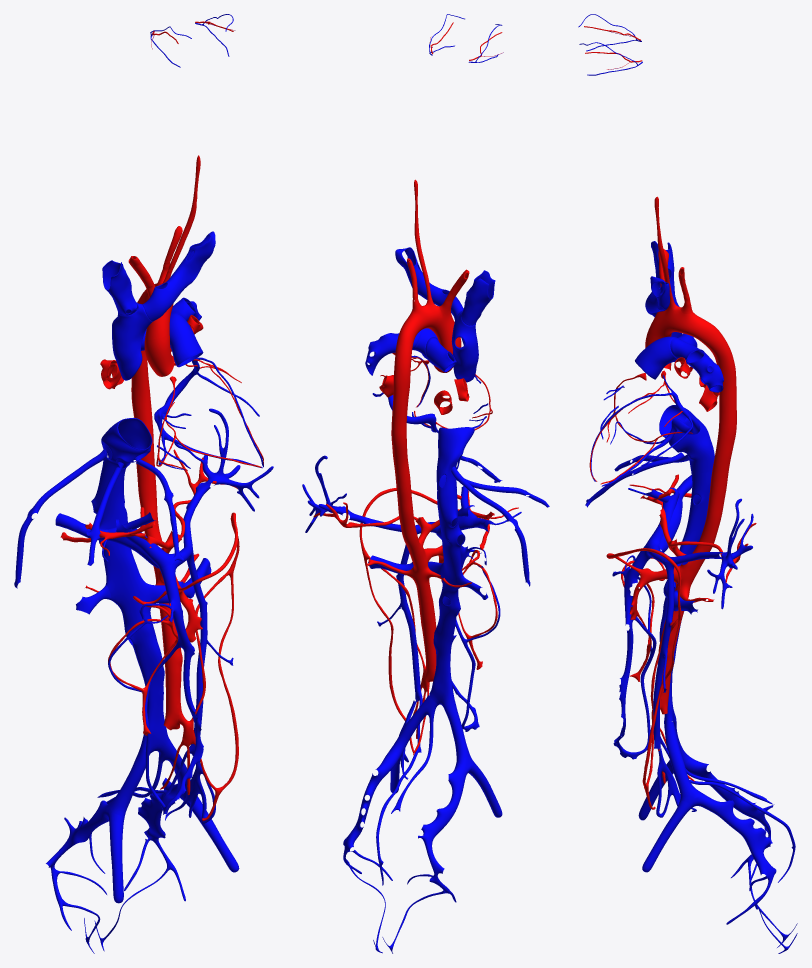
File: VH_M_Blood_Vasculature.glb
3 renders of one model, left to right at view 1: azimuth 30°, elevation 25°; view 2: azimuth 150°, elevation 25°; view 3: azimuth 270°, elevation 25°, orthographic. The views are drawn at different scales.
Parts seen in each view (by area): view 1: VH_M_inferior_vena_cava_b, VH_M_descending_aorta_b, VH_M_inferior_vena_cava_a, VH_M_superior_mesenteric_vein, VH_M_splenic_vein, VH_M_brachiocephalic_vein_L, VH_M_superior_vena_cava, VH_M_marginal_artery_of_Drummond, VH_M_descending_aorta_a, VH_M_inferior_mesenteric_vein, VH_M_brachiocephalic_vein_R, VH_M_pulmonary_trunk (+18 smaller); view 2: VH_M_inferior_vena_cava_b, VH_M_descending_aorta_b, VH_M_descending_aorta_a, VH_M_inferior_vena_cava_a, VH_M_aortic_arch, VH_M_internal_iliac_vein_R, VH_M_superior_vena_cava, VH_M_splenic_vein, VH_M_brachiocephalic_vein_R, VH_M_brachiocephalic_vein_L, VH_M_internal_iliac_vein_L, VH_M_marginal_artery_of_Drummond (+8 smaller); view 3: VH_M_descending_aorta_a, VH_M_descending_aorta_b, VH_M_inferior_vena_cava_b, VH_M_inferior_vena_cava_a, VH_M_internal_iliac_vein_L, VH_M_aortic_arch, VH_M_splenic_vein, VH_M_superior_mesenteric_vein, VH_M_pulmonary_artery_L, VH_M_inferior_mesenteric_vein, VH_M_marginal_artery_of_Drummond, VH_M_common_iliac_vein_L (+12 smaller).
Boxes of the visible parts, x1,y1,x2,y2 form: VH_M_inferior_vena_cava_b: (91,474,169,753); VH_M_descending_aorta_b: (136,459,182,730); VH_M_inferior_vena_cava_a: (101,417,152,482); VH_M_superior_mesenteric_vein: (158,564,203,812); VH_M_splenic_vein: (170,408,273,567); VH_M_brachiocephalic_vein_L: (142,231,215,321); VH_M_superior_vena_cava: (112,303,152,380); VH_M_marginal_artery_of_Drummond: (179,512,239,820); VH_M_descending_aorta_a: (131,298,154,461); VH_M_inferior_mesenteric_vein: (186,547,207,755); VH_M_brachiocephalic_vein_R: (102,260,137,315); VH_M_pulmonary_trunk: (169,313,203,367); VH_M_inferior_vena_cava_b: (429,489,465,707); VH_M_descending_aorta_b: (396,485,436,682); VH_M_descending_aorta_a: (391,343,412,489); VH_M_inferior_vena_cava_a: (436,427,474,493); VH_M_aortic_arch: (397,304,459,348); VH_M_internal_iliac_vein_R: (418,762,468,883); VH_M_superior_vena_cava: (451,310,478,382); VH_M_splenic_vein: (302,455,440,534); VH_M_brachiocephalic_vein_R: (461,270,495,325); VH_M_brachiocephalic_vein_L: (395,247,463,319); VH_M_internal_iliac_vein_L: (343,752,399,853); VH_M_marginal_artery_of_Drummond: (359,487,437,752); VH_M_descending_aorta_a: (709,334,736,488); VH_M_descending_aorta_b: (657,485,726,714); VH_M_inferior_vena_cava_b: (659,470,712,722); VH_M_inferior_vena_cava_a: (659,405,714,472); VH_M_internal_iliac_vein_L: (696,791,776,881); VH_M_aortic_arch: (647,306,721,348); VH_M_splenic_vein: (645,498,753,609); VH_M_superior_mesenteric_vein: (613,546,651,753); VH_M_pulmonary_artery_L: (670,338,723,392); VH_M_inferior_mesenteric_vein: (653,561,673,749); VH_M_marginal_artery_of_Drummond: (606,548,681,809); VH_M_common_iliac_vein_L: (665,720,698,807).
Bounding box in the file's own units: 0.2362 × 0.8718 × 0.1874.
